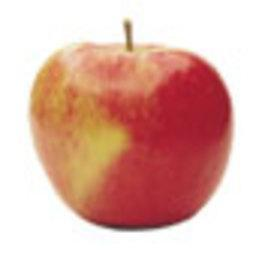apple: (30, 37, 233, 230)
